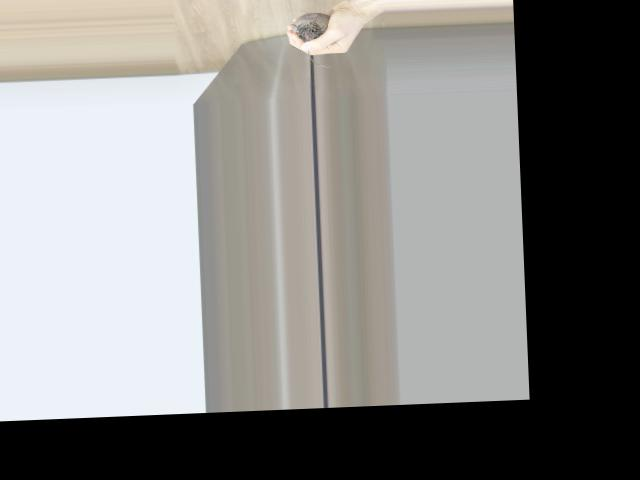beet: (290, 11, 332, 69)
